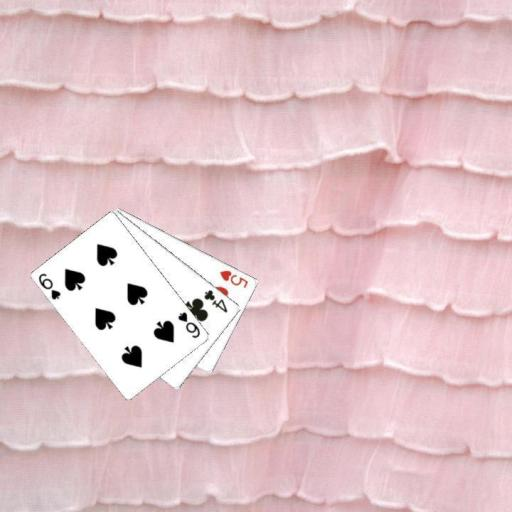card-corner: (175, 309, 202, 340), (36, 270, 62, 302), (217, 266, 249, 290), (201, 287, 229, 314)
